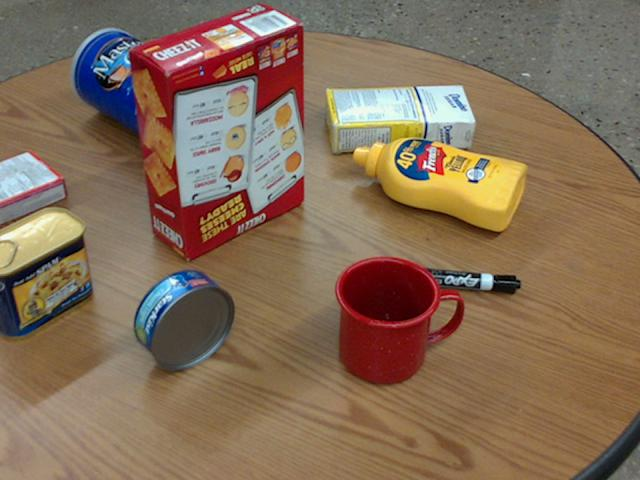cracker_box: (128, 6, 303, 260)
gelatin_box: (0, 151, 67, 225)
large_marker: (399, 265, 520, 293)
master_chef_can: (69, 29, 209, 149)
mug: (335, 255, 462, 384)
mustard_bottle: (352, 138, 526, 230)
potted_meat_can: (0, 207, 91, 340)
sugar_box: (324, 84, 477, 152)
tomato_soup_can: (238, 16, 291, 112)
tuna_fish_can: (133, 269, 234, 370)
